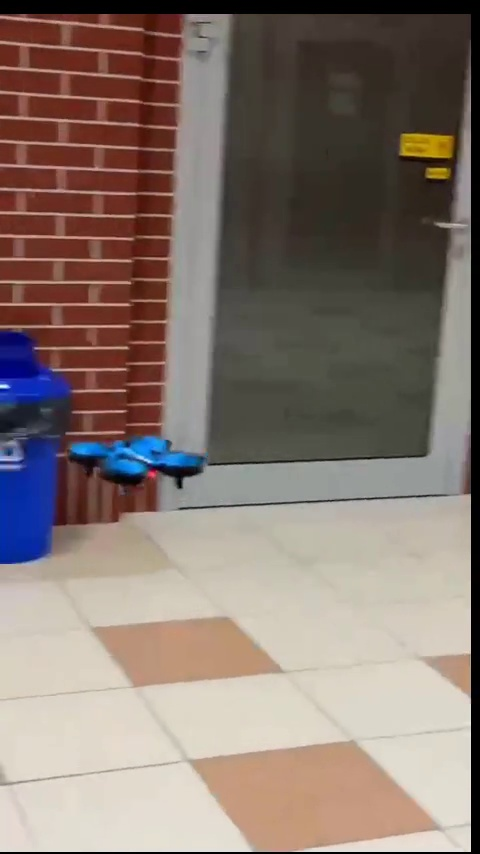drone: (65, 428, 214, 494)
